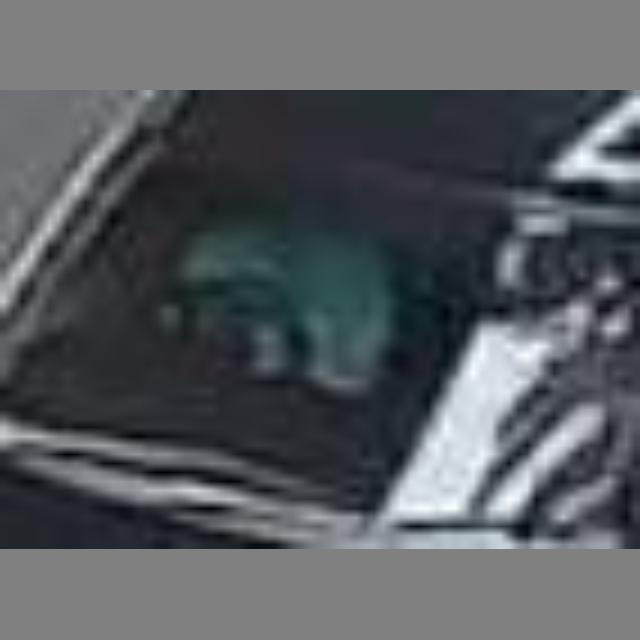tidak-pakai: (180, 207, 406, 442)
